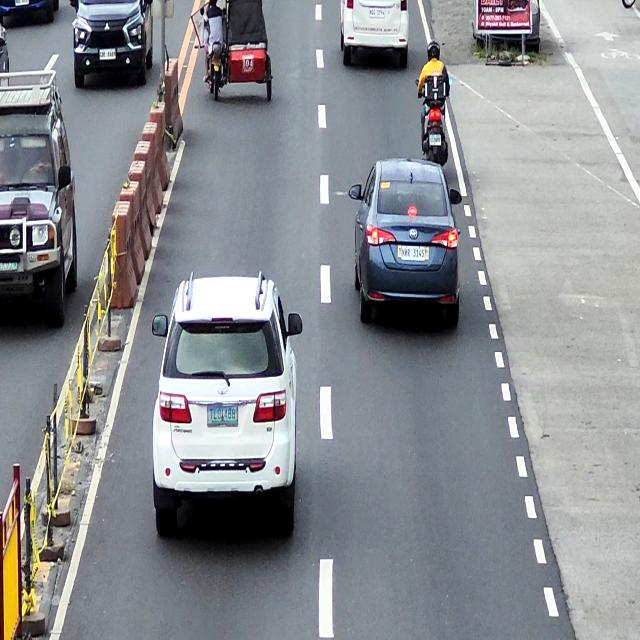Car: (151, 274, 304, 540), (349, 158, 462, 330), (0, 86, 79, 331), (72, 0, 154, 90), (340, 0, 409, 70), (0, 0, 59, 25)
License-Plate: (207, 405, 238, 426), (400, 245, 426, 261), (0, 262, 19, 273), (99, 49, 116, 60), (369, 8, 385, 18), (429, 135, 441, 145), (211, 57, 221, 66), (15, 0, 30, 6)
Motorcycle: (415, 77, 452, 167)
Tricycle: (200, 0, 273, 102)
